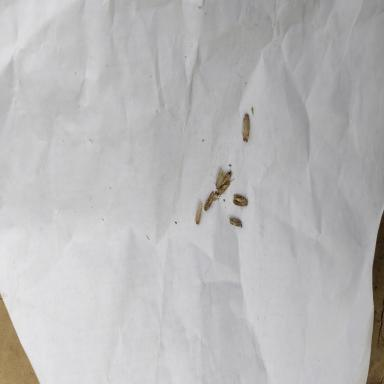pbw: (216, 178, 235, 197), (204, 191, 220, 211), (233, 192, 248, 210), (219, 169, 233, 188), (242, 113, 250, 143), (214, 168, 224, 190), (194, 203, 203, 224), (229, 218, 242, 228)
